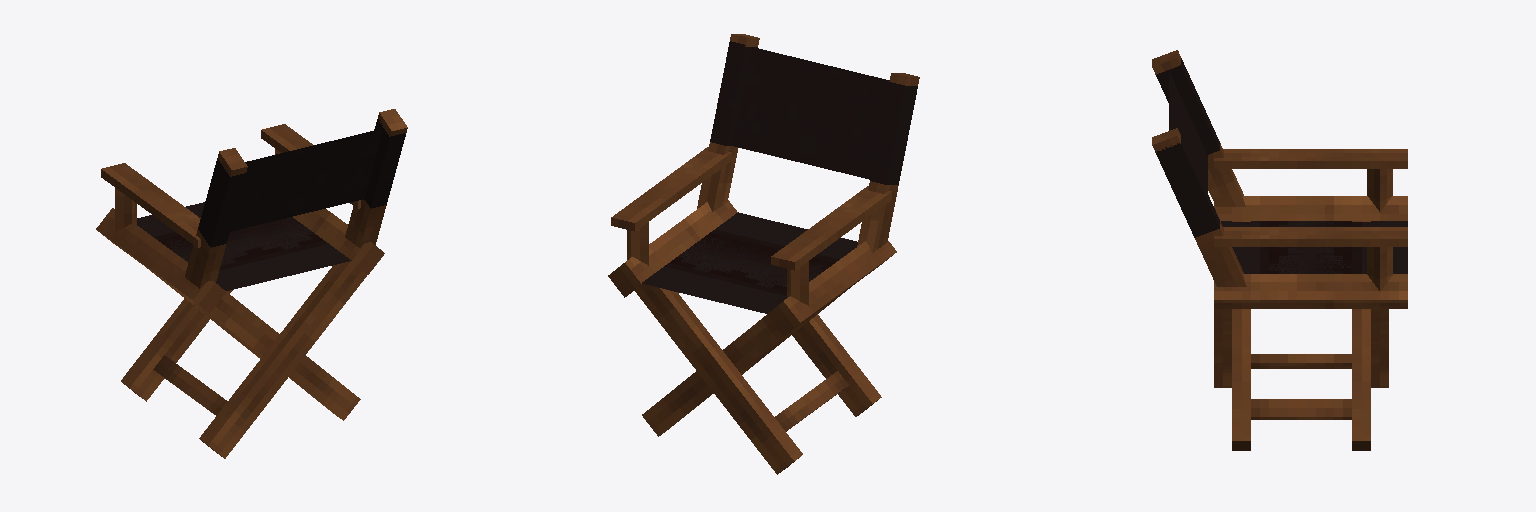
The picture shows the model from 3 angles: view 1: azimuth 30°, elevation 25°; view 2: azimuth 150°, elevation 25°; view 3: azimuth 270°, elevation 25°; orthographic projection.
Parts seen in each view (by area): view 1: cube; view 2: cube; view 3: cube.
Part boxes in pixels (x1,y1,x2,y2): cube: (96, 109, 407, 458); cube: (608, 34, 919, 474); cube: (1152, 50, 1407, 450).
Size of the model in its own units: 0.7522 by 1.22 by 0.8653.
3 materials, 2 textured.